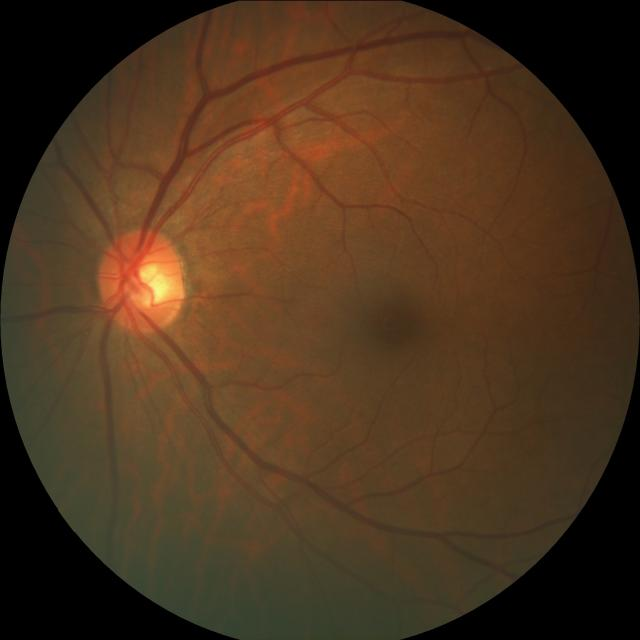OC: (119, 251, 170, 309)
OD: (99, 227, 189, 335)
